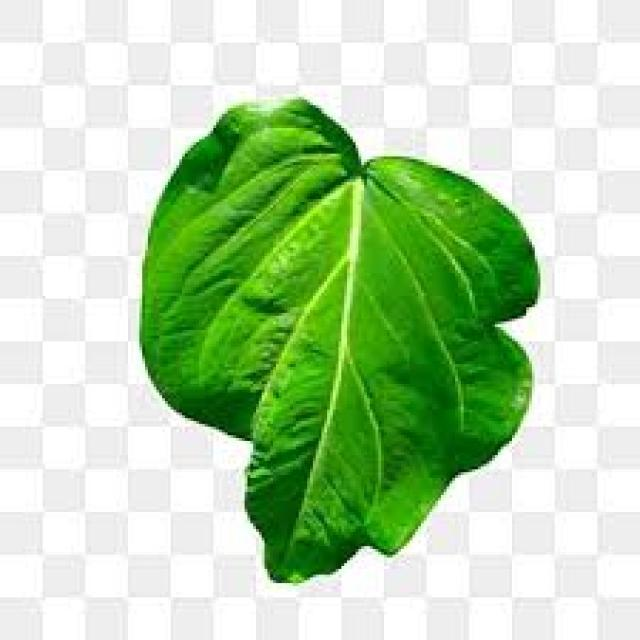leaf: (139, 95, 540, 583)
